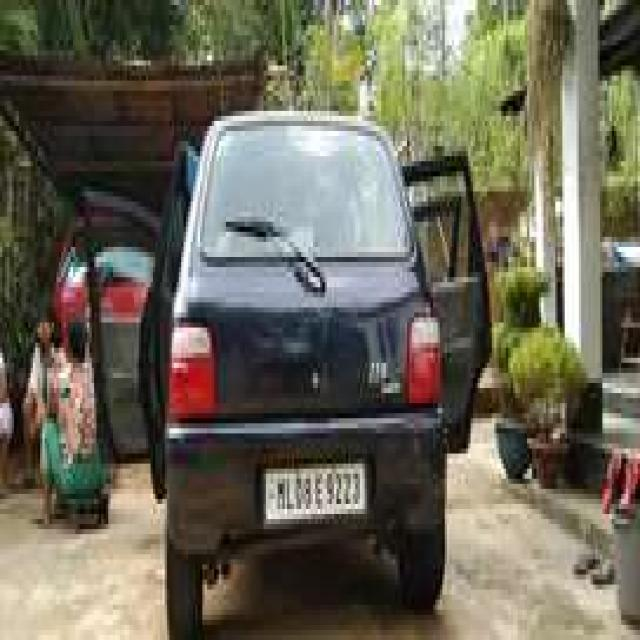Plate: (263, 455, 364, 515)
